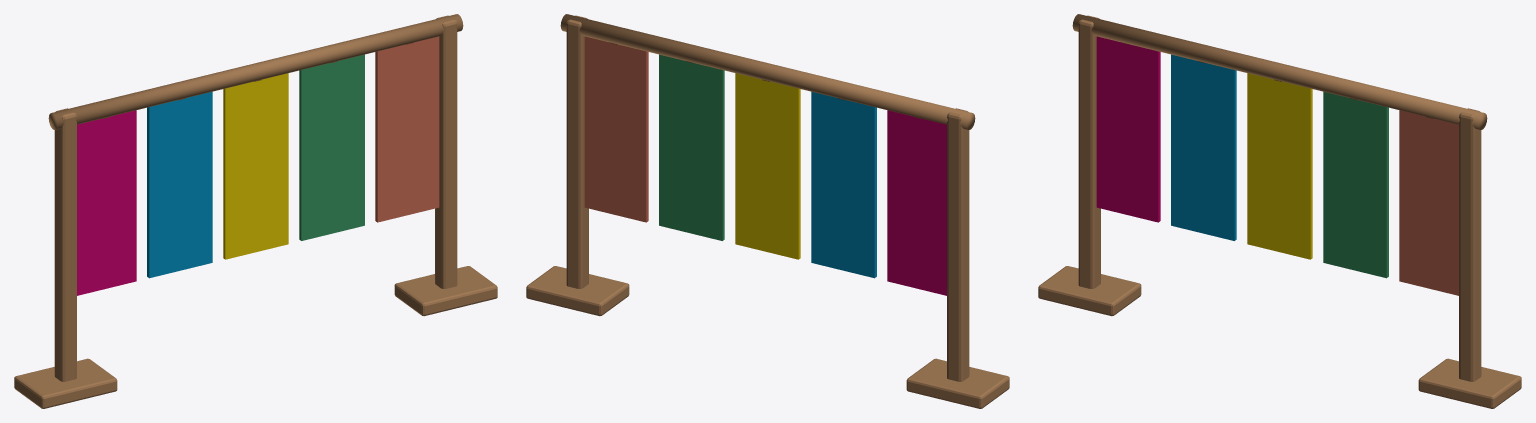
Rendered from m_dryrack.glb.
3 renders of one model, left to right at view 1: azimuth 30°, elevation 25°; view 2: azimuth 150°, elevation 25°; view 3: azimuth 330°, elevation 25°, orthographic.
Parts seen in each view (by area): view 1: m_dryrack; view 2: m_dryrack; view 3: m_dryrack.
Boxes of the visible parts, x1,y1,x2,y2 form: m_dryrack: (14,14,497,408); m_dryrack: (526,14,1009,408); m_dryrack: (1038,14,1521,408).
Bounding box in the file's own units: 0.72 × 0.422 × 0.08.
